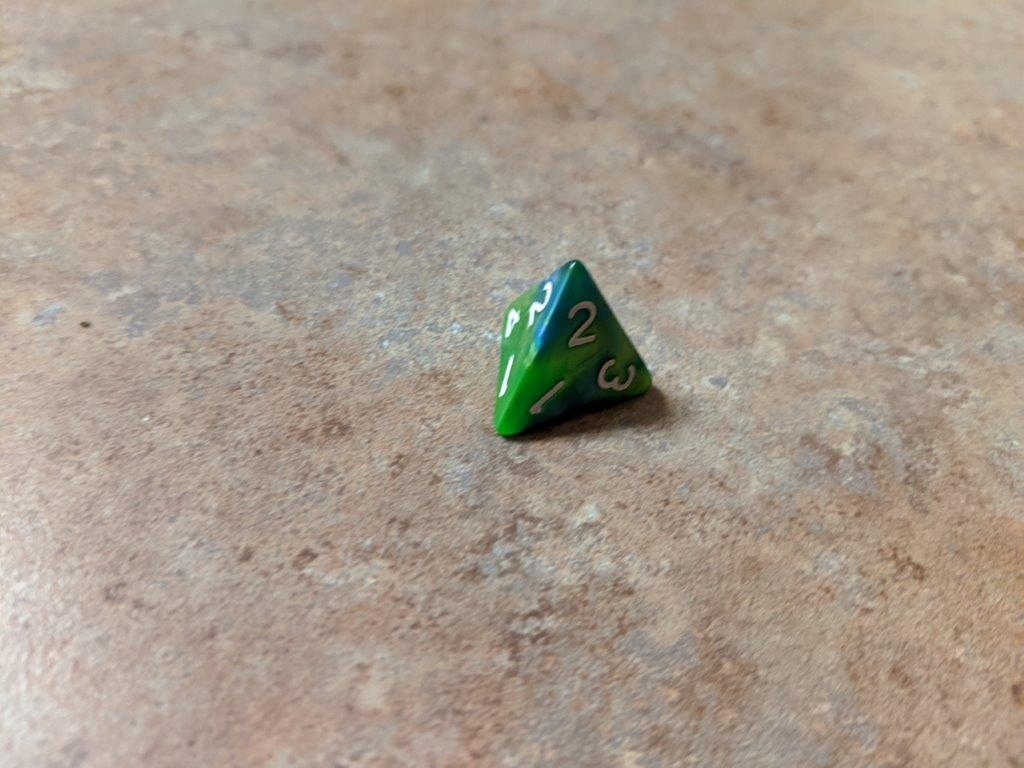d4-2: (499, 254, 662, 439)
